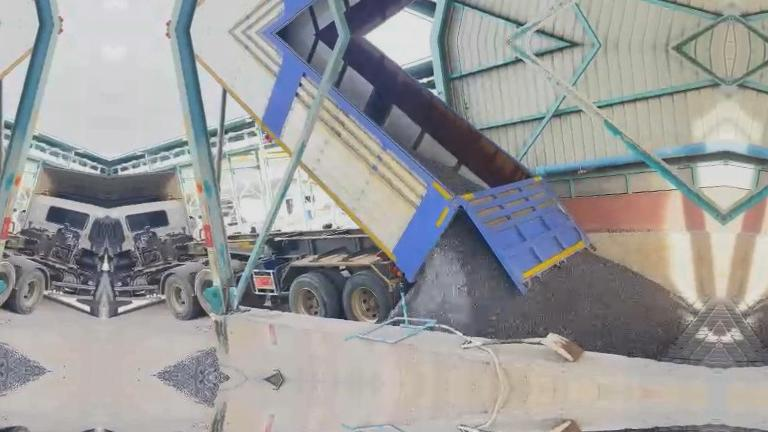gravel: (406, 213, 693, 358), (419, 156, 483, 193), (153, 347, 229, 378)
